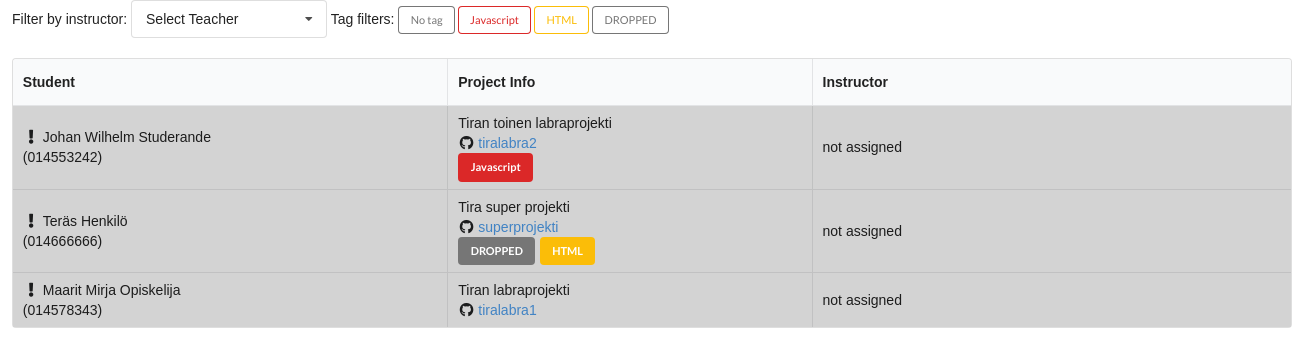
Scenario: <StudentTable /> › StudentTable Component › disables tag filters that no visible student uses
Click the button "Javascript" in the row of "Tag filters:" at (494, 20), box [458,6,531,34]
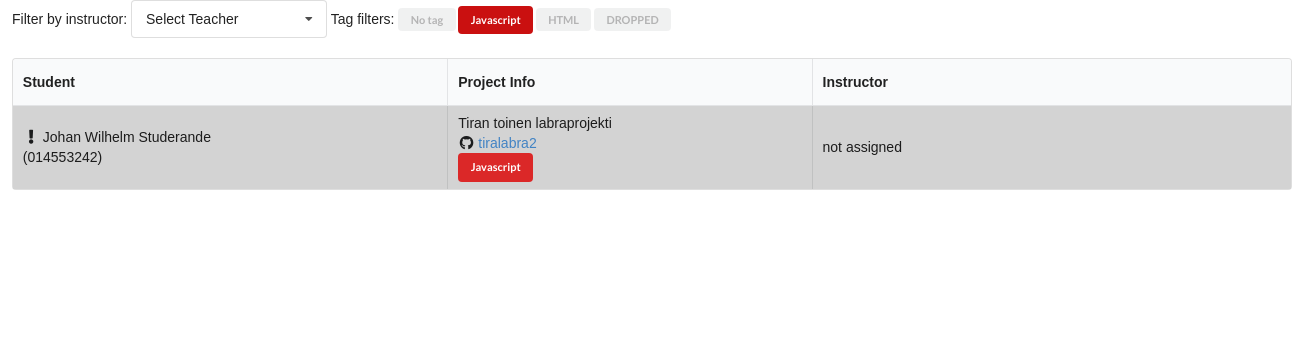
Expected: the button "No tag" is disabled, [398,8,456,31]
Expected: the button "HTML" is disabled, [536,8,591,31]
Expected: the button "DROPPED" is disabled, [594,8,671,31]
